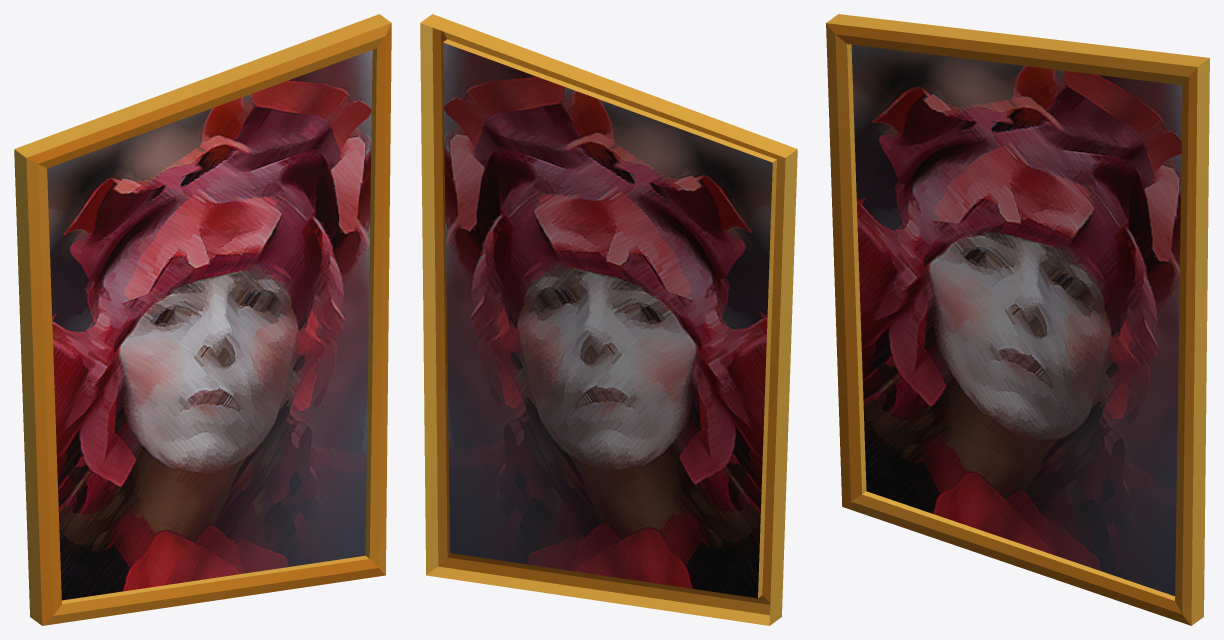
File: painting_03.fbx
3 renders of one model, left to right at view 1: azimuth 30°, elevation 25°; view 2: azimuth 150°, elevation 25°; view 3: azimuth 330°, elevation 25°, orthographic.
Parts seen in each view (by area): view 1: painting_03; view 2: painting_03; view 3: painting_03.
Part boxes in pixels (x1,y1,x2,y2): painting_03: (14,14,391,625); painting_03: (420,14,797,625); painting_03: (826,14,1209,625).
Size of the model in its own units: 204 by 295 by 12.95.
